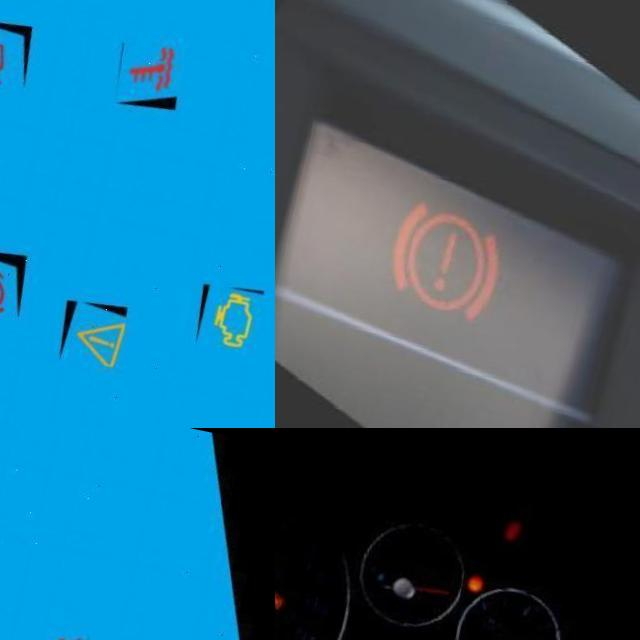Low fuel level: (275, 559, 293, 588)
